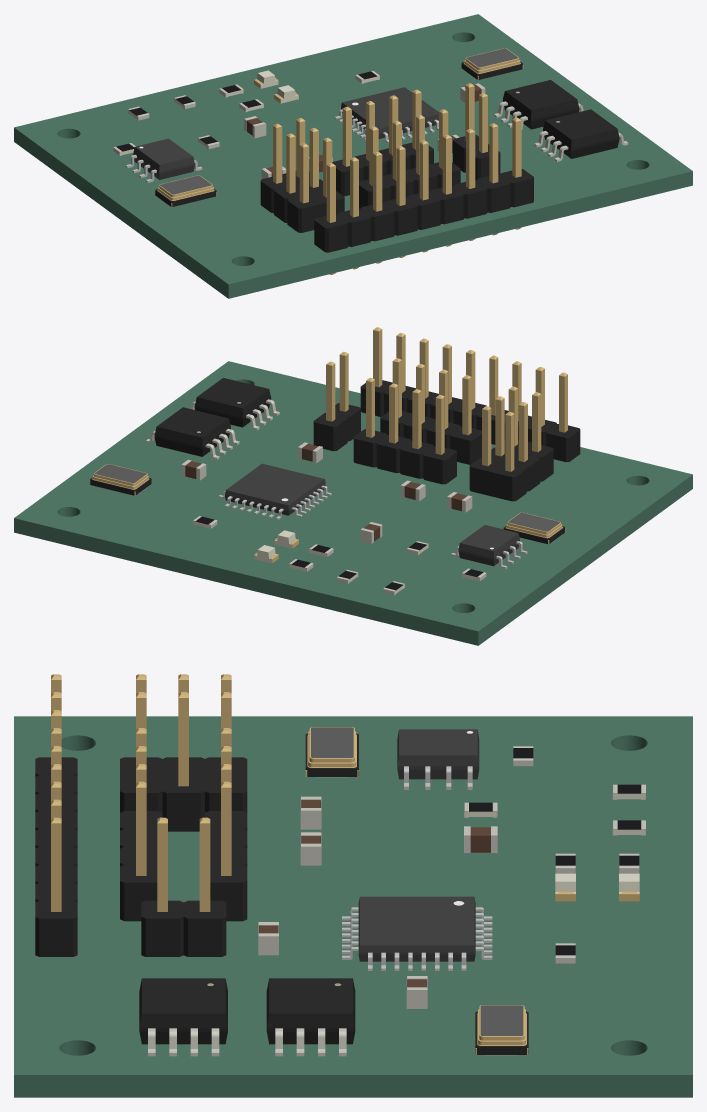
Rendered from datalogger-pcb.glb.
3 renders of one model, top to bottom at view 1: azimuth 30°, elevation 25°; view 2: azimuth 150°, elevation 25°; view 3: azimuth 270°, elevation 25°, orthographic. The views are drawn at different scales.
Visible parts, largest first — view 1: =>[0:1:1:44], =>[0:1:1:17], =>[0:1:1:37] (×2), =>[0:1:1:13] (×2), =>[0:1:1:43], Body (×2), =>[0:1:1:21] (×2), =>[0:1:1:39]; view 2: =>[0:1:1:44], =>[0:1:1:37] (×2), =>[0:1:1:17], =>[0:1:1:43], =>[0:1:1:13] (×2), Body (×2), =>[0:1:1:39], =>[0:1:1:21] (×2); view 3: =>[0:1:1:44], =>[0:1:1:13] (×2), Body (×2), =>[0:1:1:37] (×2), =>[0:1:1:17], =>[0:1:1:43], =>[0:1:1:39], =>[0:1:1:21] (×2), =>[0:1:1:19] (×5), Array001, Array003, Array002.
Boxes of the visible parts, x1,y1,x2,y2 form: =>[0:1:1:44]: [14, 14, 692, 298]; =>[0:1:1:17]: [314, 117, 533, 274]; =>[0:1:1:37] (×2): [332, 89, 460, 208]; =>[0:1:1:13] (×2): [494, 80, 628, 161]; =>[0:1:1:43]: [260, 118, 344, 232]; Body (×2): [133, 87, 438, 179]; =>[0:1:1:21] (×2): [155, 48, 523, 206]; =>[0:1:1:39]: [453, 83, 500, 180]; =>[0:1:1:44]: [14, 361, 692, 645]; =>[0:1:1:37] (×2): [353, 358, 481, 484]; =>[0:1:1:17]: [360, 327, 580, 462]; =>[0:1:1:43]: [469, 386, 553, 501]; =>[0:1:1:13] (×2): [145, 378, 279, 459]; Body (×2): [225, 463, 519, 566]; =>[0:1:1:39]: [313, 351, 360, 451]; =>[0:1:1:21] (×2): [89, 464, 565, 544]; =>[0:1:1:44]: [14, 716, 692, 1097]; =>[0:1:1:13] (×2): [139, 978, 355, 1056]; Body (×2): [358, 729, 479, 961]; =>[0:1:1:37] (×2): [120, 728, 247, 921]; =>[0:1:1:17]: [35, 674, 77, 956]; =>[0:1:1:43]: [120, 674, 247, 831]; =>[0:1:1:39]: [141, 817, 226, 956]; =>[0:1:1:21] (×2): [305, 727, 528, 1055]; =>[0:1:1:19] (×5): [258, 796, 497, 1008]; Array001: [368, 952, 466, 970]; Array003: [475, 907, 492, 959]; Array002: [342, 907, 358, 959].
Bounding box in the file's own units: 0.0508 × 0.0115 × 0.0406.
